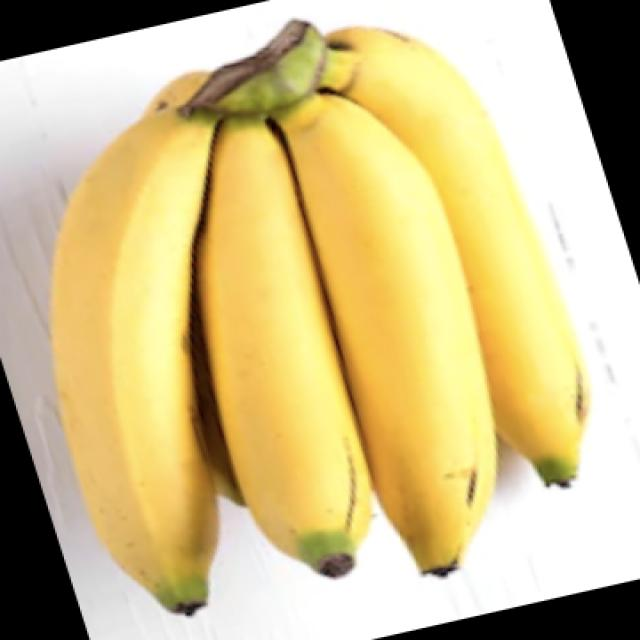banana: (27, 22, 622, 606)
